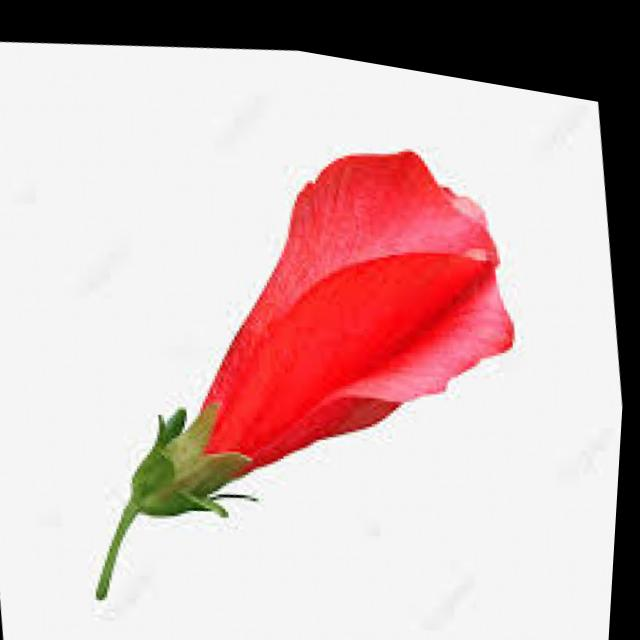Flower: (30, 64, 577, 640)
